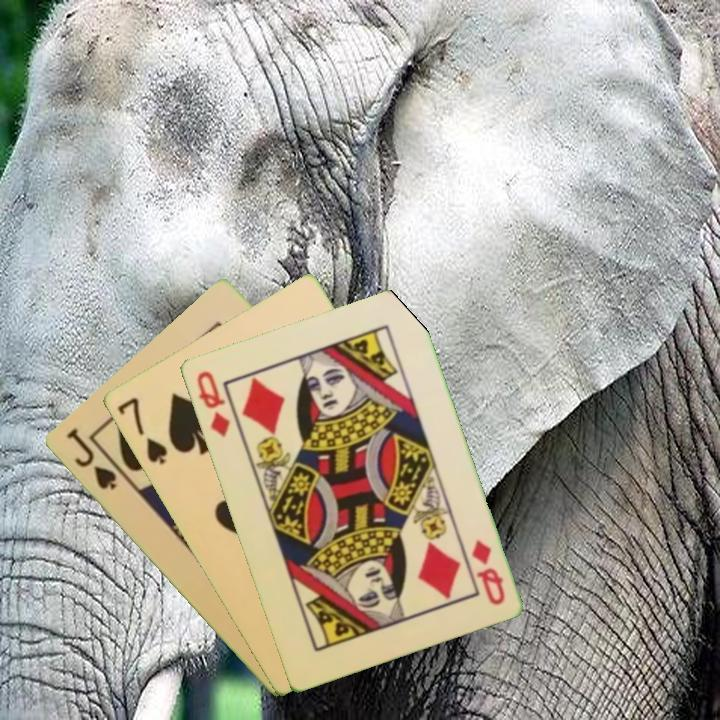7s: (113, 393, 170, 468)
Js: (61, 424, 119, 493)
Qd: (192, 367, 233, 440), (467, 536, 508, 608)
